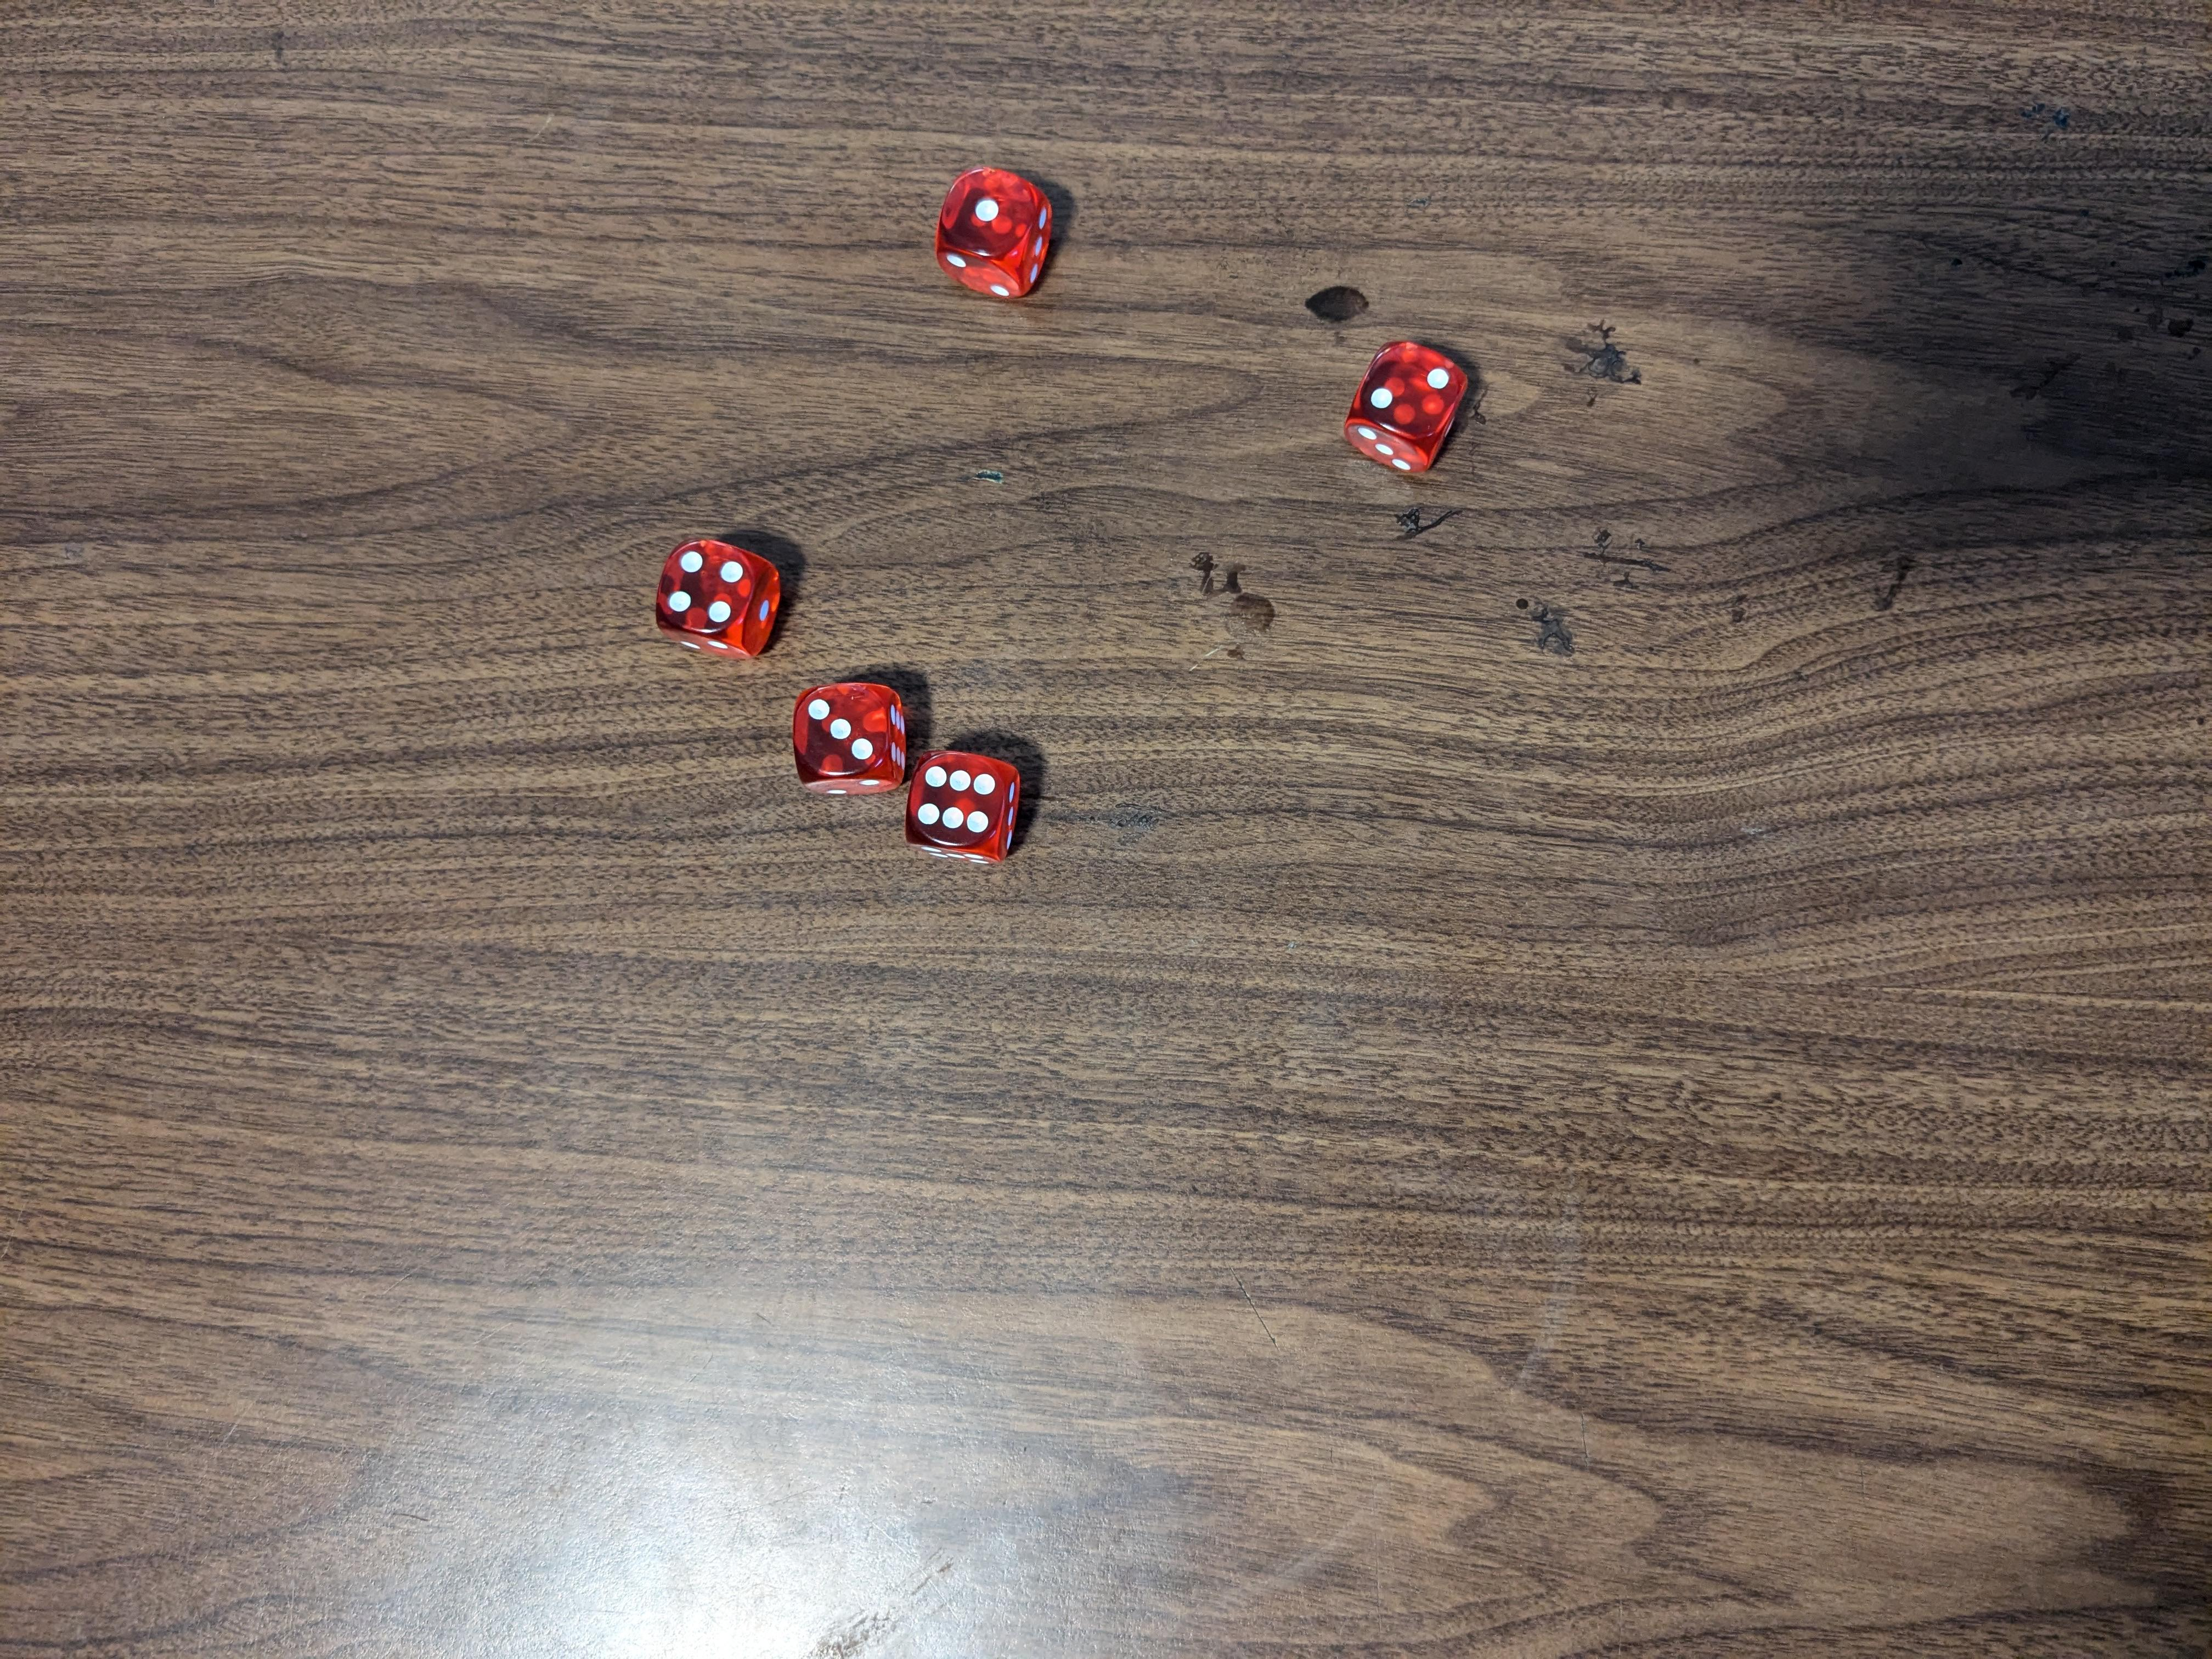four: (651, 538, 787, 655)
one: (932, 164, 1061, 296)
six: (906, 751, 1022, 866)
three: (792, 681, 911, 802)
two: (1345, 340, 1470, 467)
